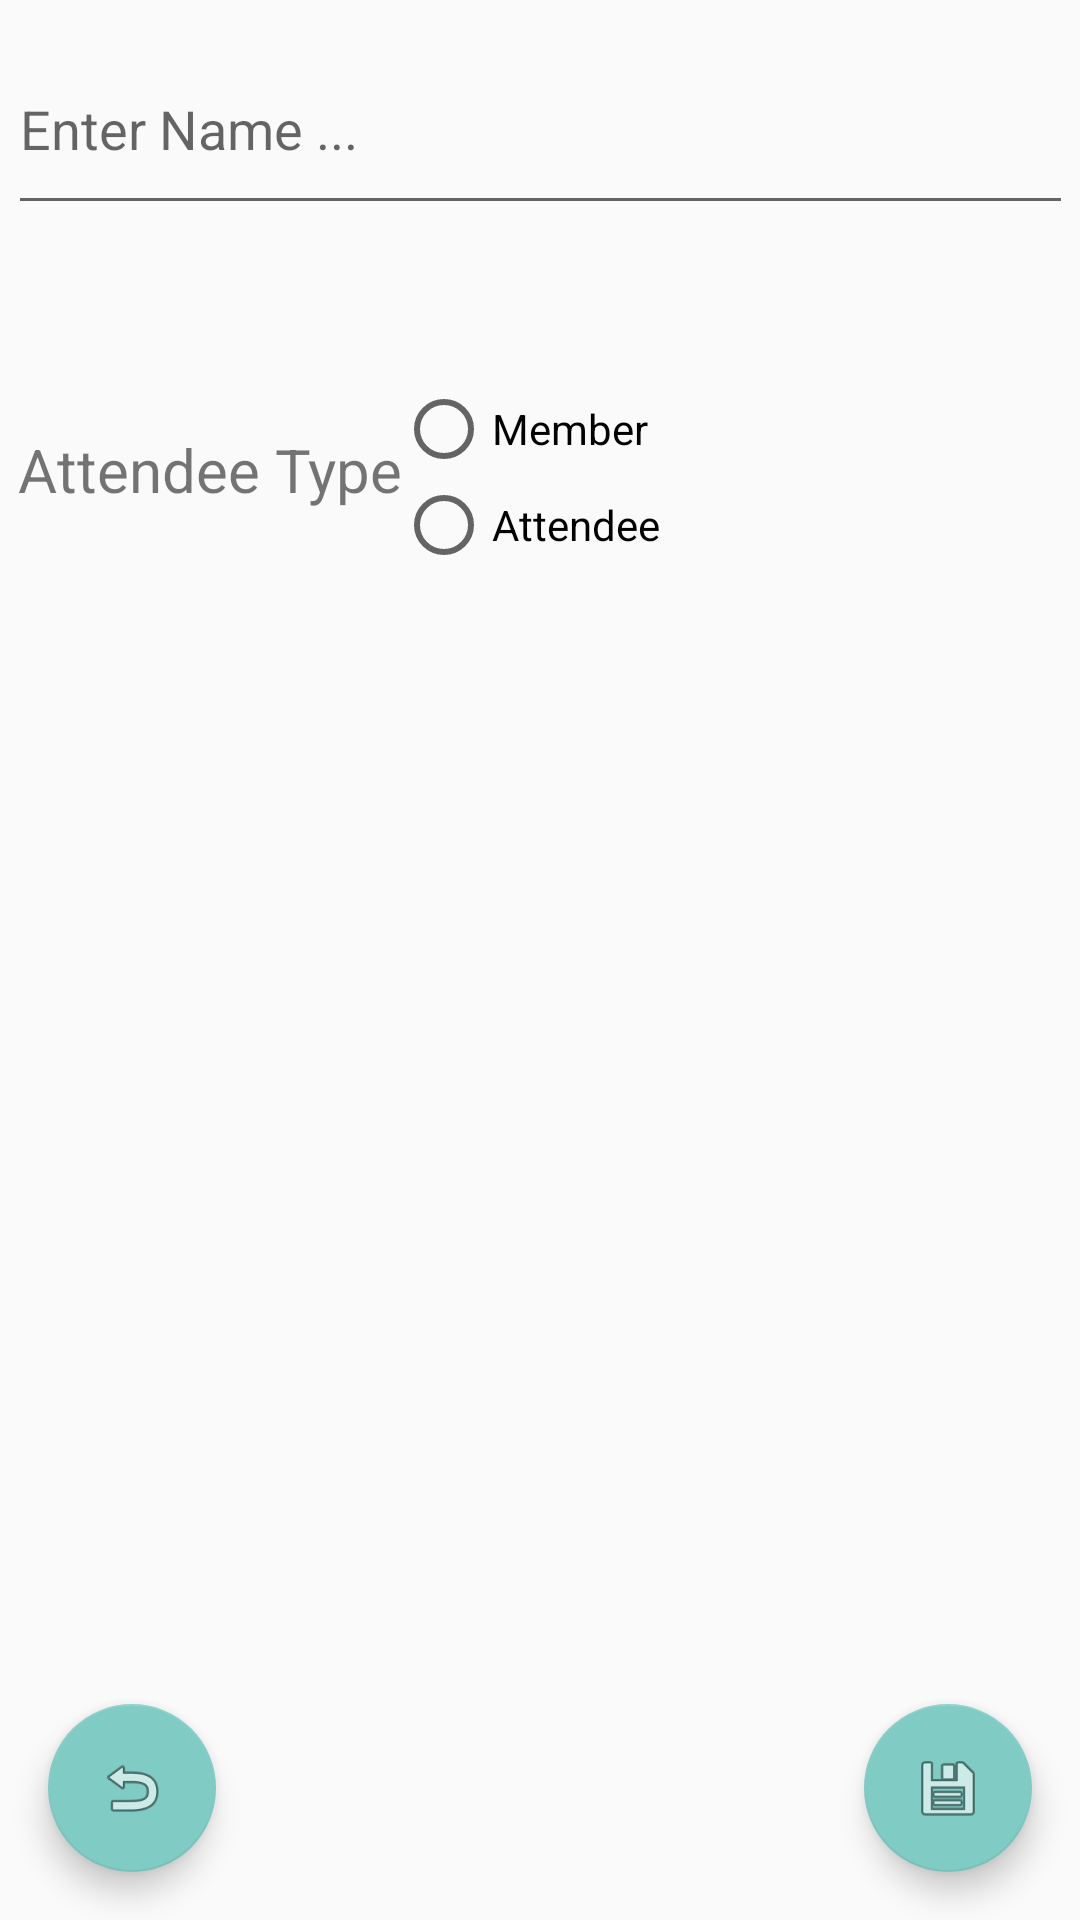

Icon bounding boxes for this 1080w x 1920h phone screenshot, format (x1, y1, x2, y2):
revert: (48, 1704, 216, 1872)
save: (864, 1704, 1032, 1872)
